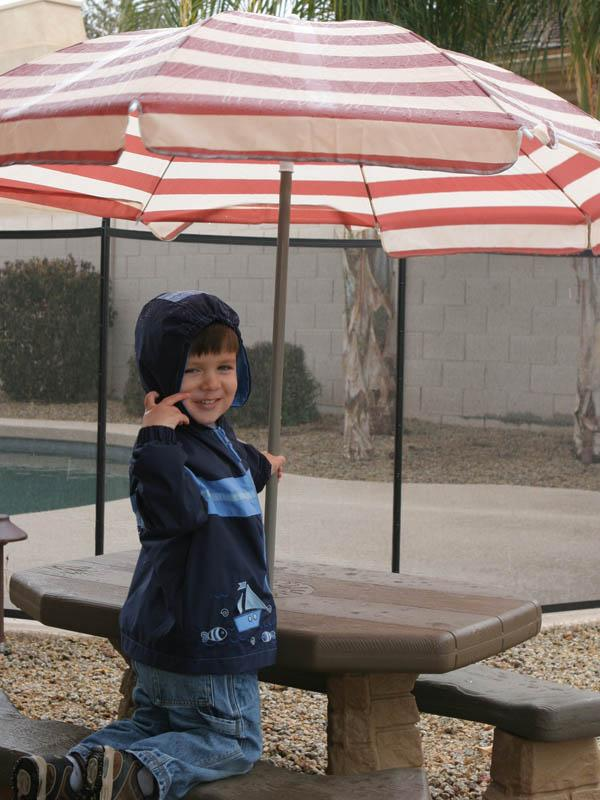person: (12, 289, 286, 800)
